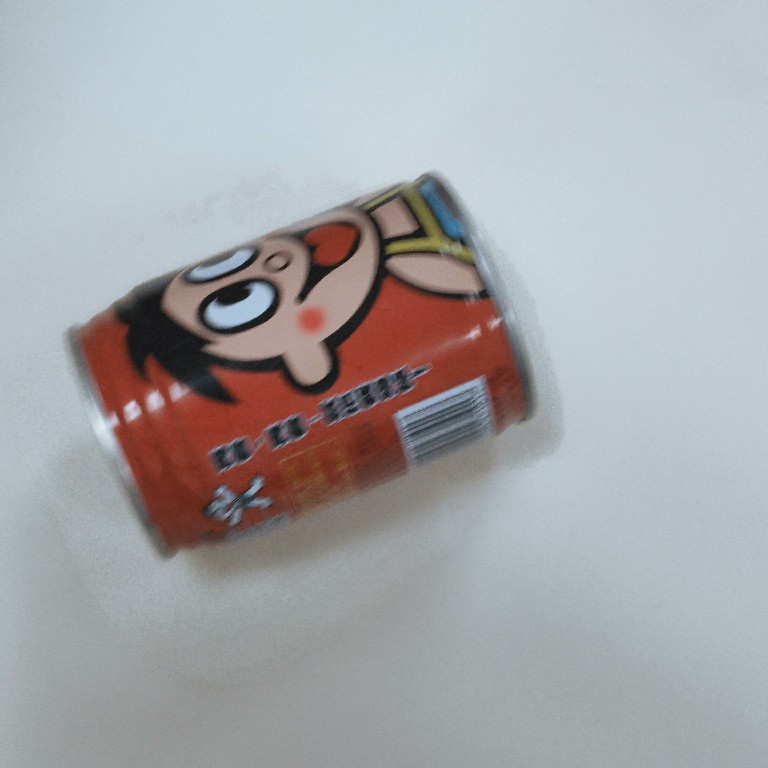can: (58, 163, 546, 564)
